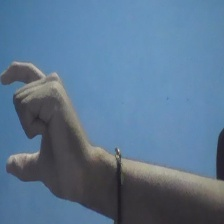G: (1, 57, 92, 206)
